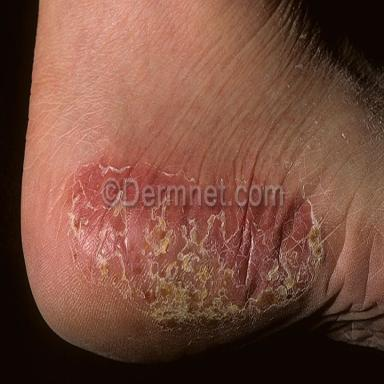eczema: (65, 160, 324, 345)
